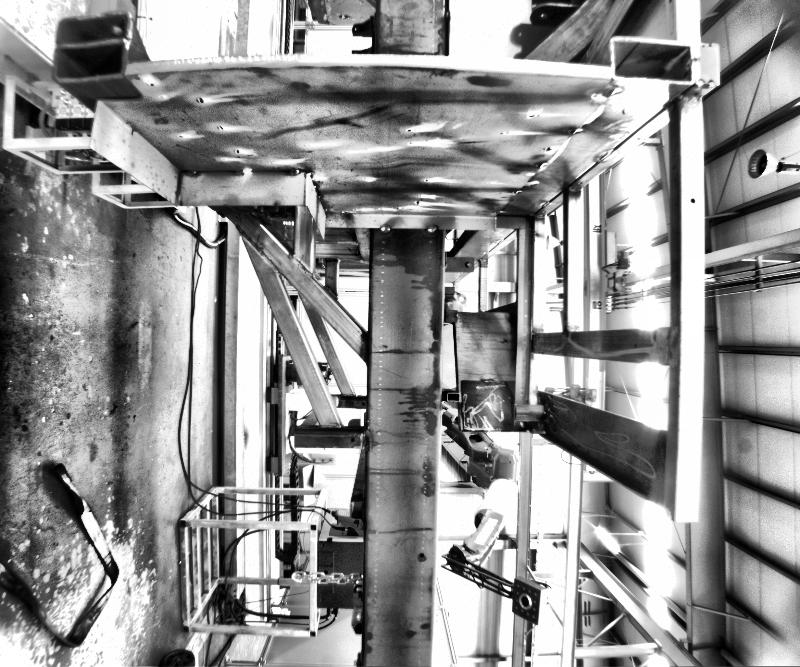hole: (688, 198, 696, 205), (418, 550, 424, 557), (632, 342, 636, 348), (349, 437, 353, 440)
welding: (226, 165, 250, 179), (182, 165, 200, 177), (422, 223, 439, 232), (378, 222, 390, 233), (282, 167, 300, 174)
